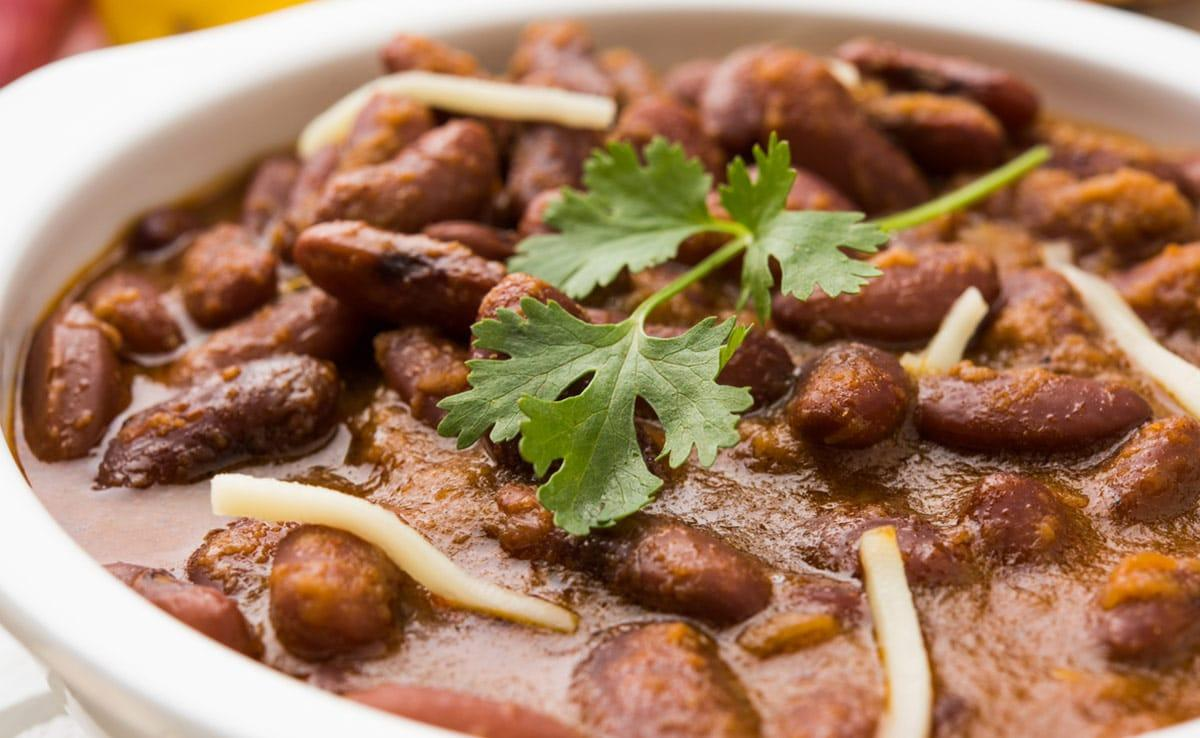rajma: (78, 30, 1170, 738)
